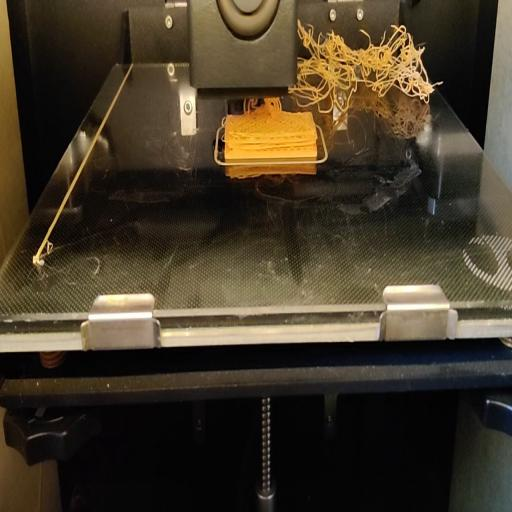spaghetti: (292, 16, 448, 117)
